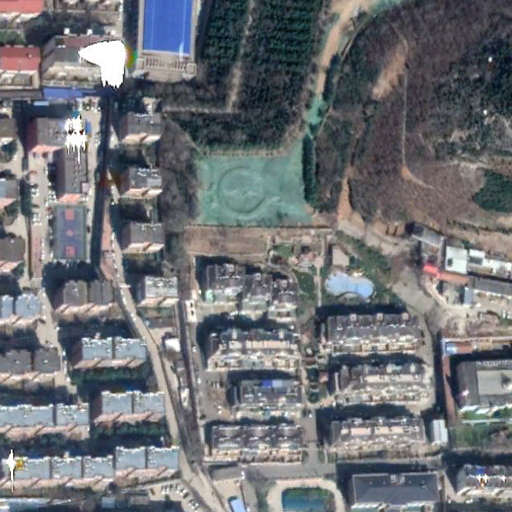cw: (197, 94, 328, 229)
